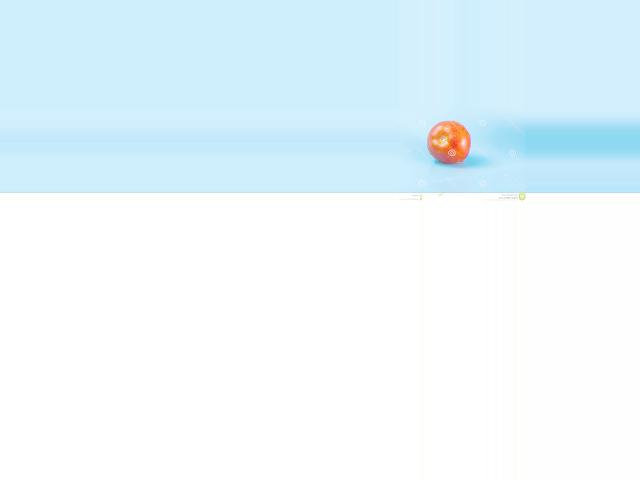tomato: (426, 121, 470, 163)
